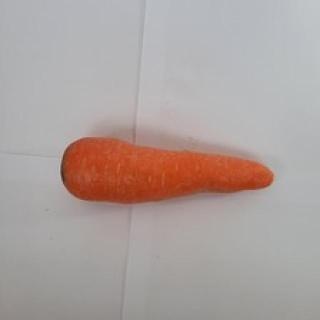carrot: (54, 134, 280, 200)
